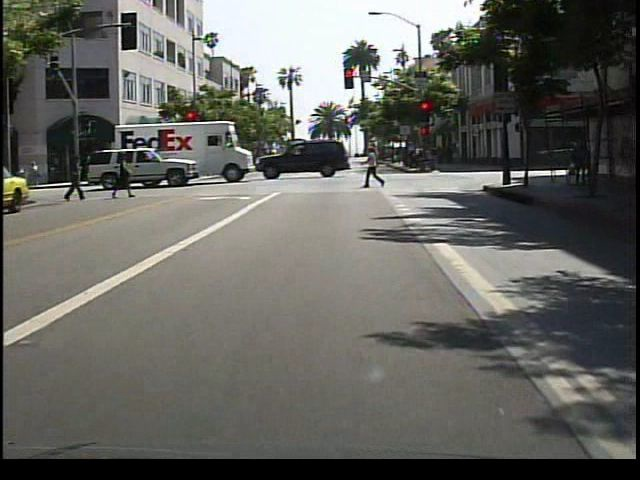person: (567, 136, 596, 194), (111, 152, 136, 202), (364, 145, 388, 191), (65, 157, 87, 206)
